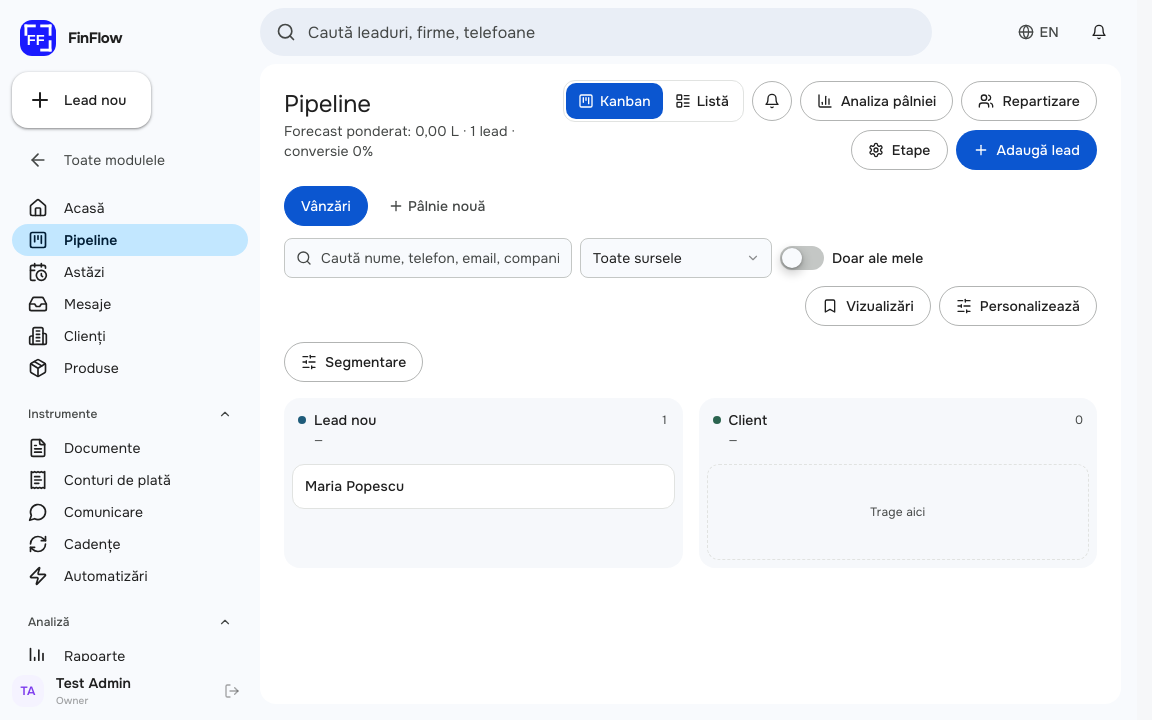
Test case: Filtrele tablei pleacă la server › [blocant] un filtru fără rezultate spune „niciun rezultat”, nu „niciun lead încă”
The width and height of the screenshot is (1152, 720).
Step 1. Type "zzz" into the field with placeholder "Caută nume, telefon, email, companie..." → (428, 258), box [284,238,572,278]
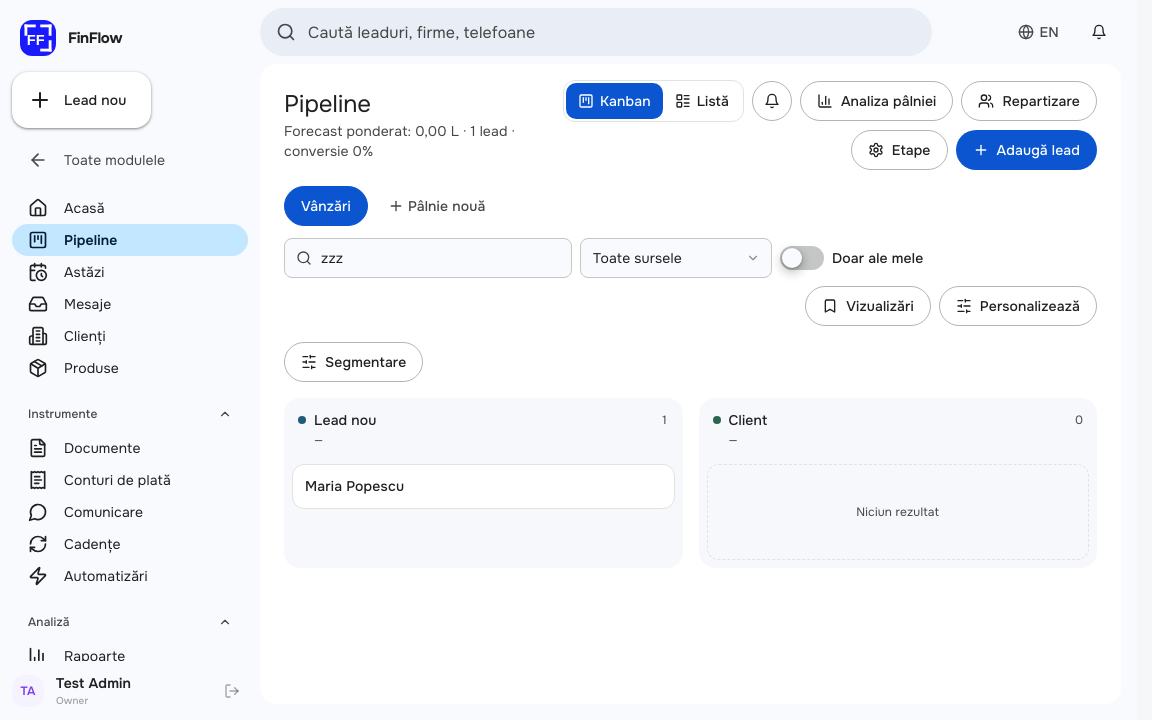
Check: the text "Niciun rezultat" is shown, box [706,464,1089,560]
